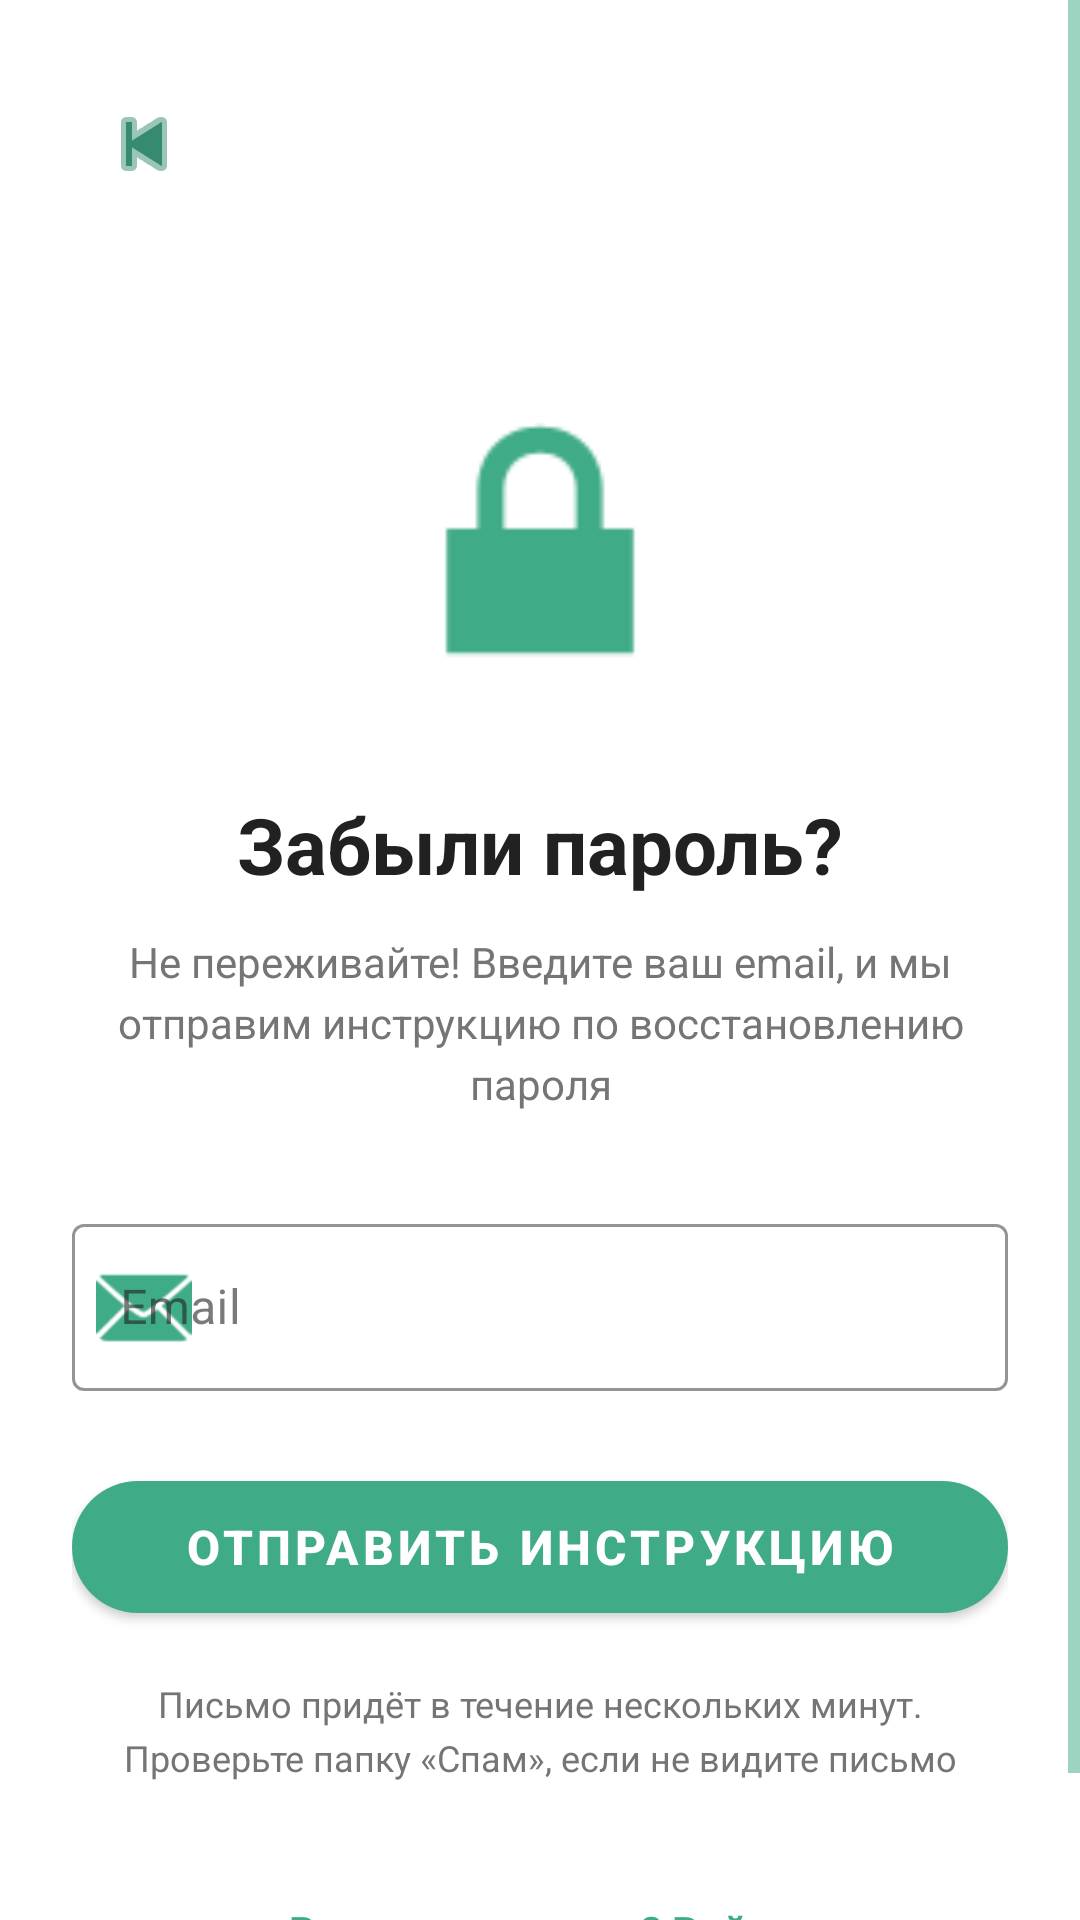

Screen size 1080×1920. Icon name, then its box in pixels as (left=x1, top=y1, right=x2, bottom=y2):
Lock icon: (left=445, top=424, right=635, bottom=656)
Назад: (left=121, top=117, right=167, bottom=171)
